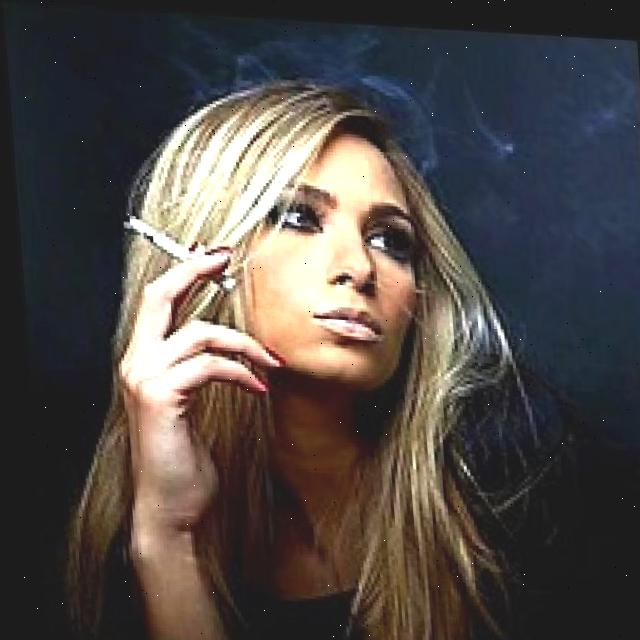cigarette: (120, 212, 235, 289)
